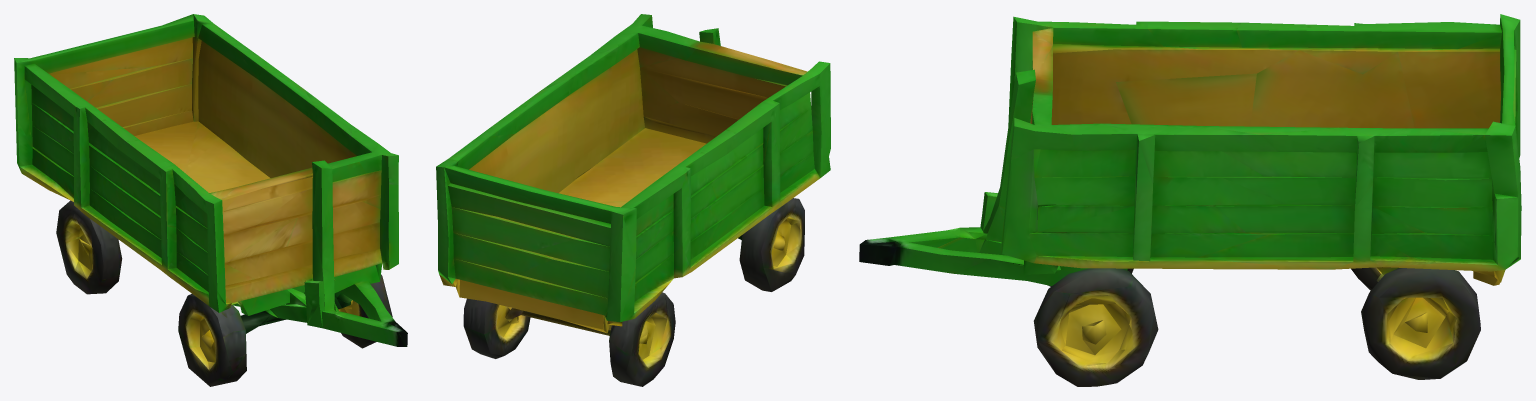
The model's file is farmTrailer.glb.
3 views of the same model, side by side, from view 1: azimuth 30°, elevation 25°; view 2: azimuth 150°, elevation 25°; view 3: azimuth 270°, elevation 25° (orthographic). The views are drawn at different scales.
Parts seen in each view (by area): view 1: model; view 2: model; view 3: model.
Boxes of the visible parts, x1,y1,x2,y2 form: model: (14, 14, 407, 386); model: (436, 14, 830, 386); model: (859, 14, 1521, 386).
Size of the model in its own units: 0.8133 by 0.8619 by 1.89.
Materials: 1 (1 with a texture image).
